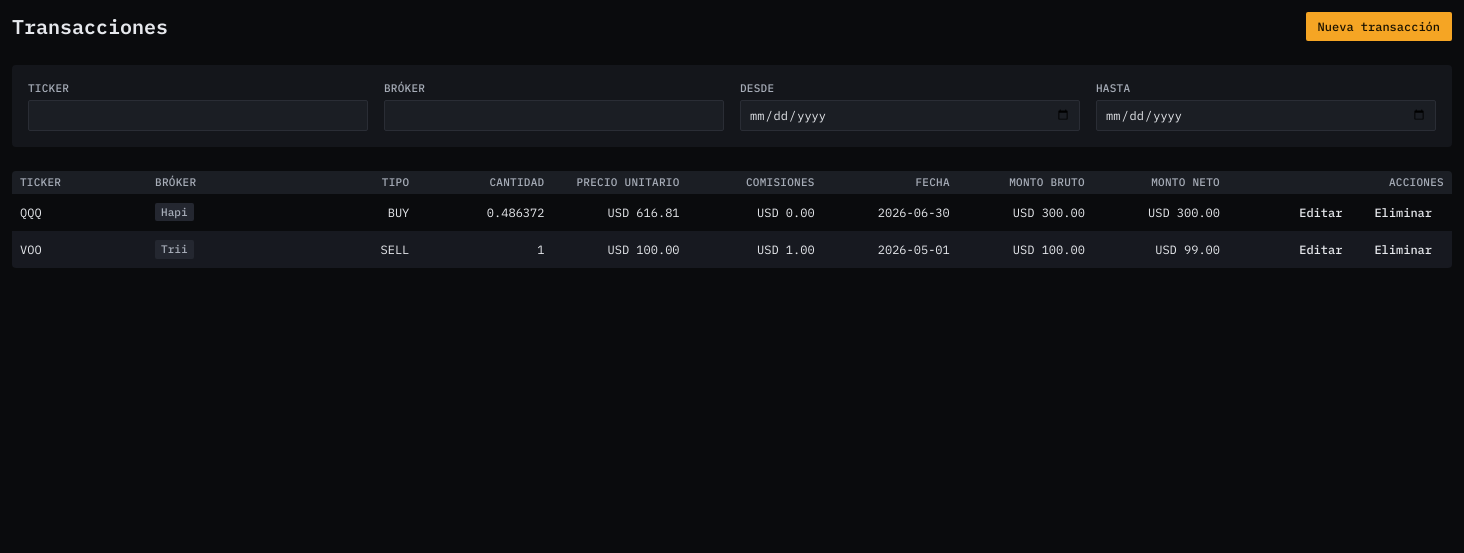
Scenario: creating a transaction › invalidates a non-decimal amount with its own error and moves focus there when it is the first invalid field
Expected: the row with test id "transaction-row-1" is shown, [12, 194, 1452, 231]
Click the button "Nueva transacción" at {"x": 1379, "y": 27}, box [1306, 12, 1452, 41]
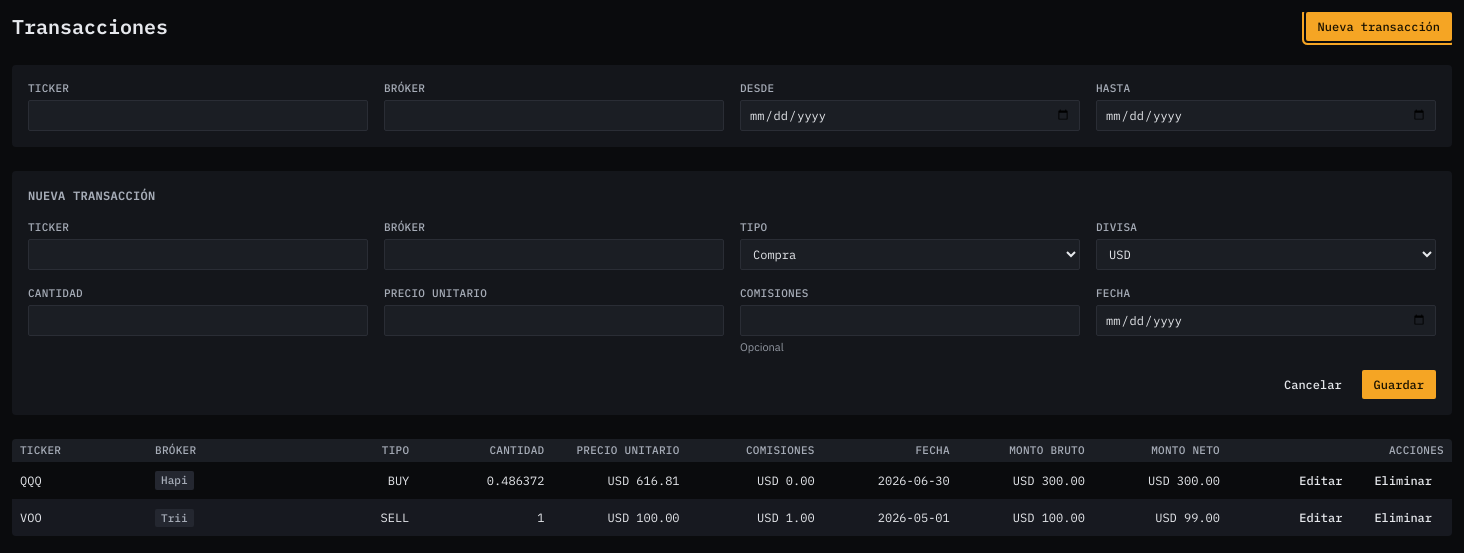
Type "QQQ" into the 2nd field labelled "Ticker" at {"x": 198, "y": 254}, box [28, 239, 368, 270]
Type "Hapi" into the 2nd field labelled "Bróker" at {"x": 554, "y": 254}, box [384, 239, 724, 270]
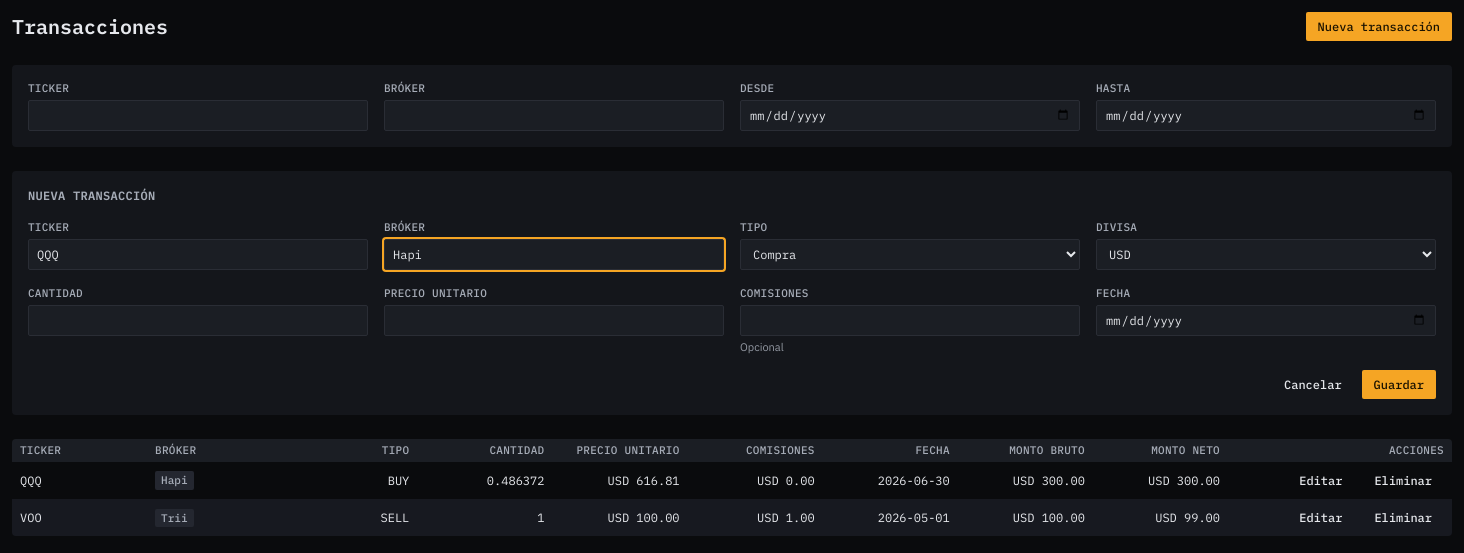
Type "abc" into the field labelled "Cantidad" at {"x": 198, "y": 320}, box [28, 304, 368, 336]
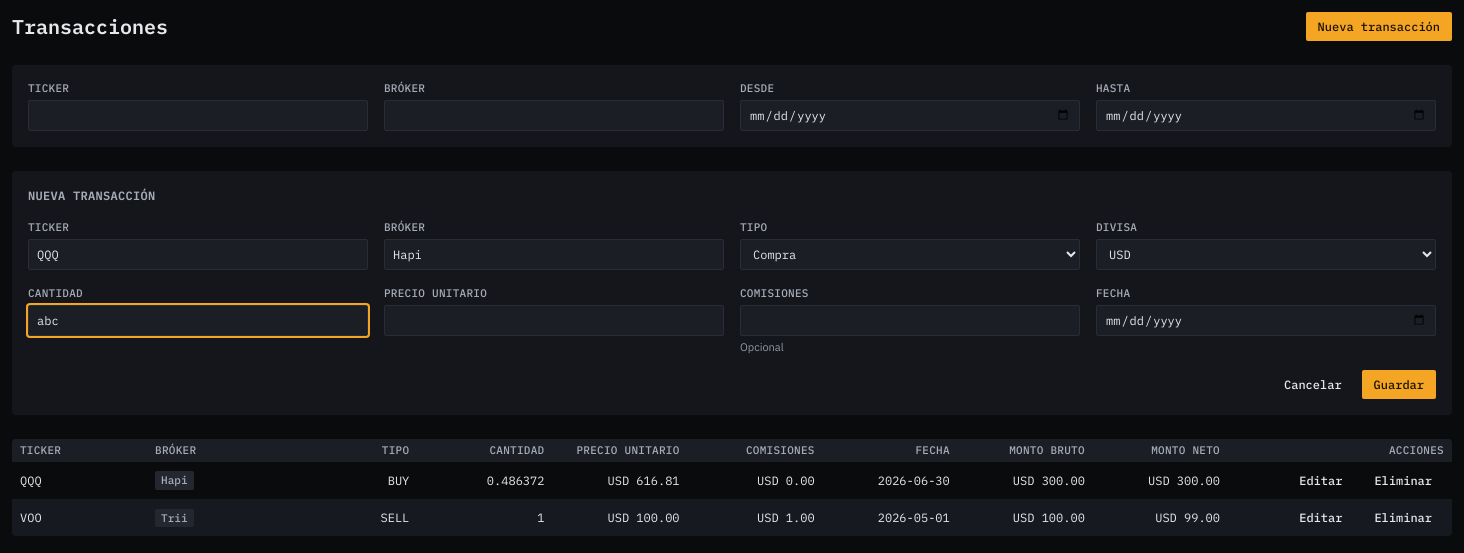
Type "1" into the field labelled "Precio unitario" at {"x": 554, "y": 320}, box [384, 304, 724, 336]
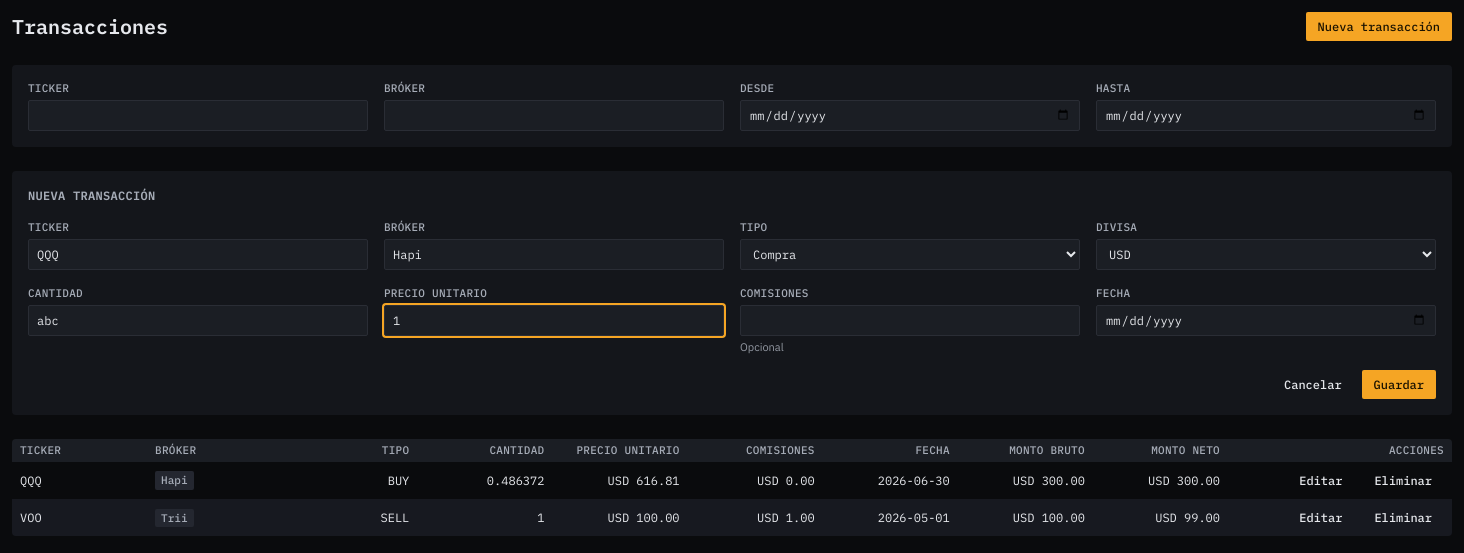
Type "2026-06-30" into the date field labelled "Fecha" at {"x": 1266, "y": 320}, box [1096, 304, 1436, 336]
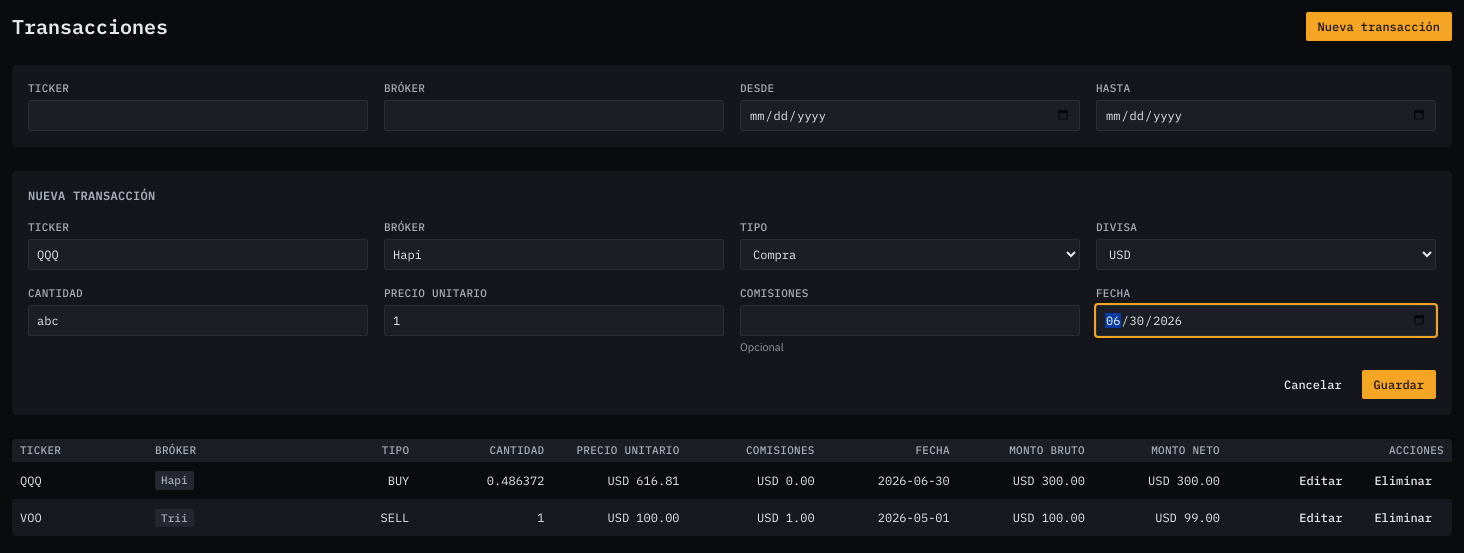
Click the button "Guardar" at {"x": 1399, "y": 385}, box [1362, 370, 1436, 399]
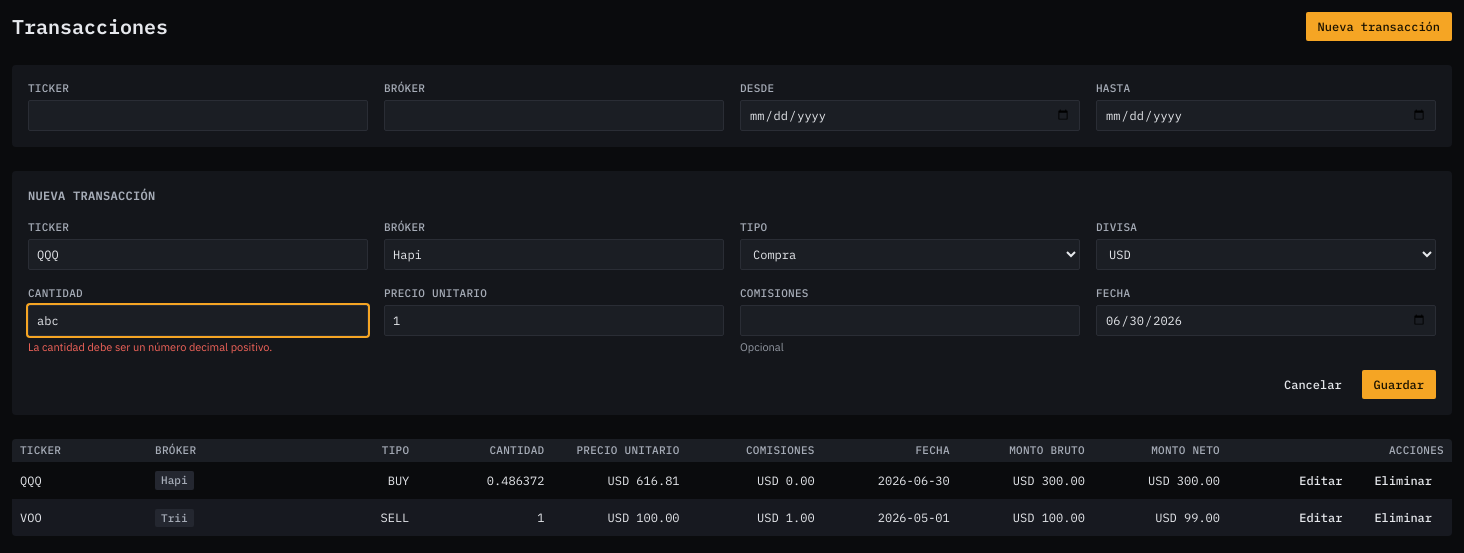
Expected: the text "La cantidad debe ser un número decimal positivo." is shown, [28, 340, 272, 354]
